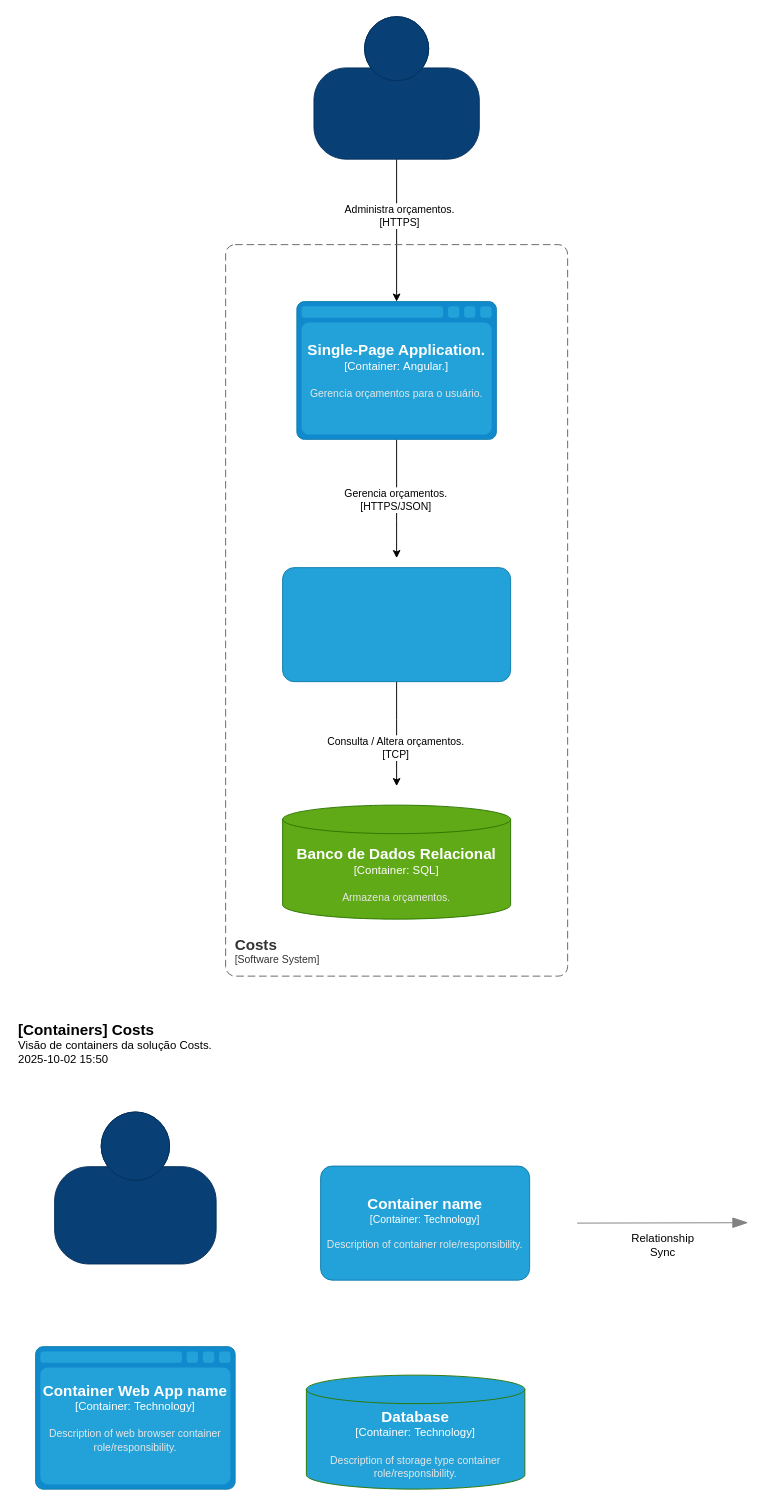
Some shapes in this 780 by 1506 pixel diagram are drawn without their labels. The shapes that lost their labels are listed below. From the top down, each one's centre as x and y in pixels, then its label:
the point at 396,87: Usuário [Person] Usuário que administrará seus orçamentos.
the point at 396,624: API [Container: SpringBoot] Expões endpoints para orçamentos.
the point at 135,1187: Person name [Person] Description of person.
